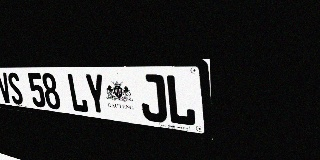5: (27, 73, 47, 108)
8: (41, 73, 61, 110)
J: (138, 74, 168, 123)
L: (165, 74, 196, 127), (66, 73, 89, 113)
S: (6, 72, 24, 105)
V: (0, 72, 13, 104)
Y: (84, 73, 108, 116)
